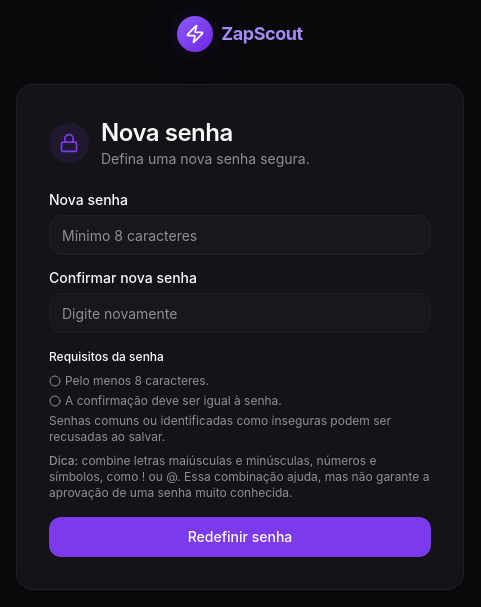
definição de senha com orientações claras › mostra requisitos e distingue dicas antes do envio
The image size is (481, 607).
Check: the button "Redefinir senha" is shown, box [49,517,431,557]
Check: the list item "Pelo menos 8 caracteres." is shown, box [49,373,209,388]
Type "Ficticia!76543" into the password field labelled "Nova senha" at {"x": 240, "y": 235}, box [49,215,431,255]
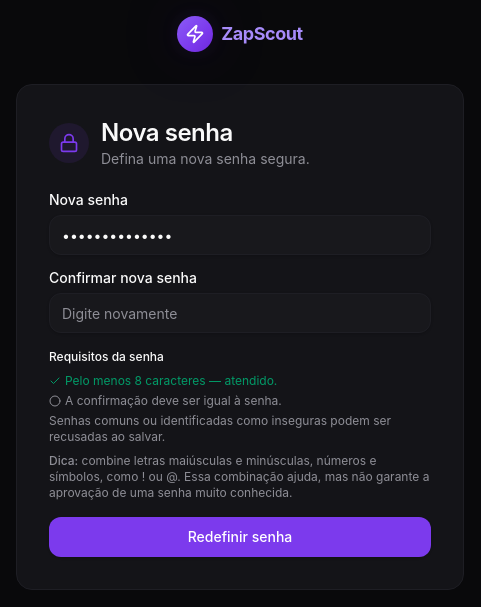
Type "Ficticia!76543" into the password field labelled "Confirmar nova senha" at {"x": 240, "y": 313}, box [49,293,431,333]
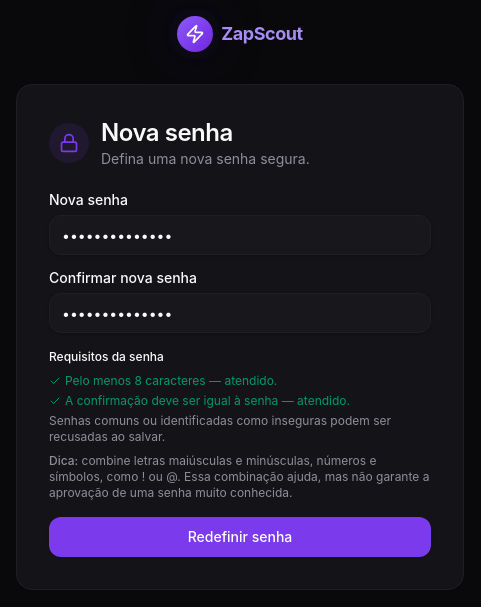
Check: the list item "Pelo menos 8 caracteres — atendido." is shown, box [49,373,277,388]
Check: the list item "A confirmação deve ser igual à senha — atendido." is shown, box [49,393,350,408]
